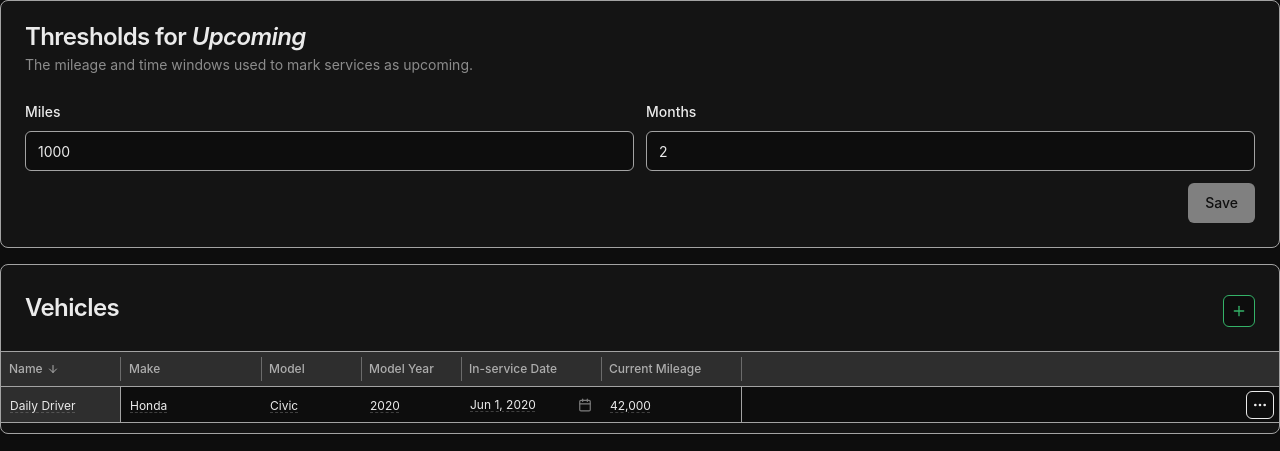
Test case: GarageConfigView vehicles grid › restores the previous model year and shows the year bounds when an out-of-range value is committed
Later steps or results of the test are not shown.
Press the mouse on the 4th field at (411, 405), box [365, 391, 457, 419]
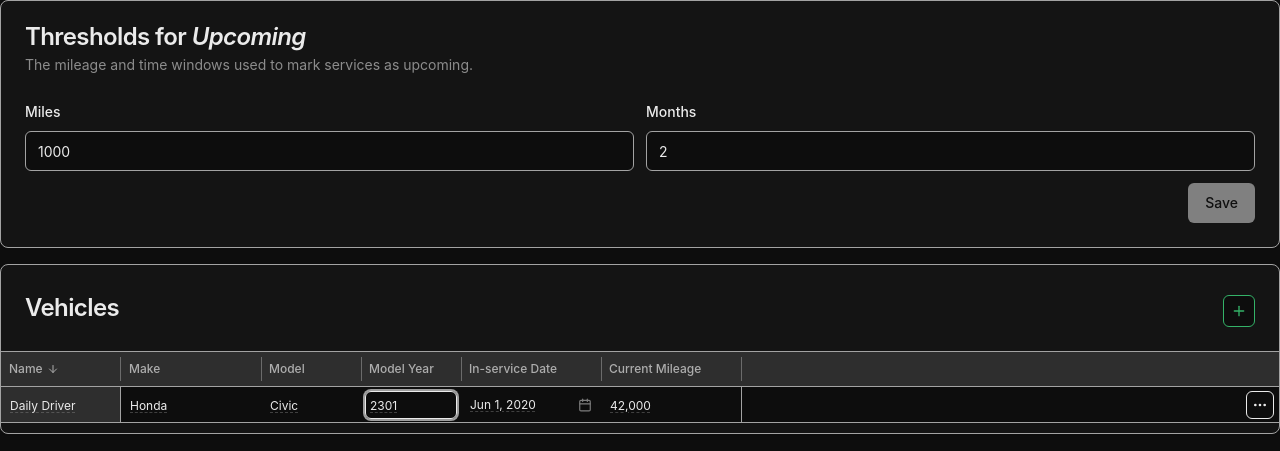
Check: the 3rd number field has attribute data-grid-editing="true", box [365, 391, 457, 419]
